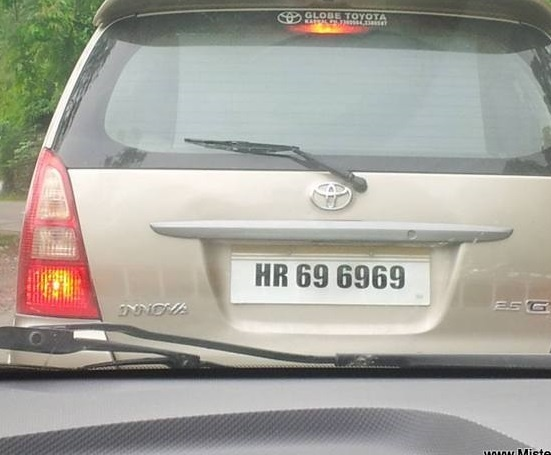number_plate: (234, 254, 422, 294)
